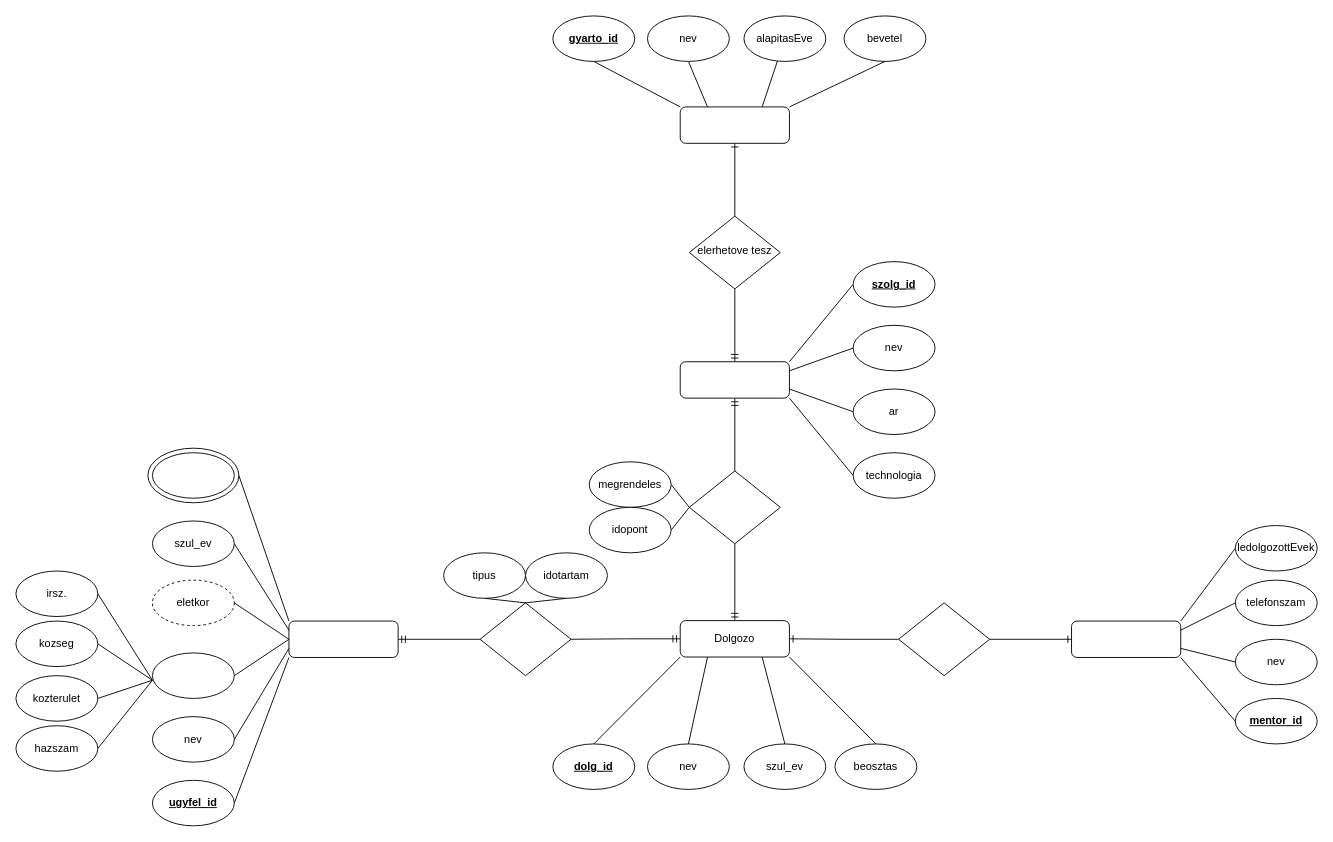
This 1333x842 diagram has some shape labels left out. The box of each missing label's shape, as (x1, y1, x2, y2) in pixels:
ertekesit: (688, 470, 780, 544)
Eszkozgyarto: (679, 106, 789, 143)
lakcim: (152, 652, 234, 698)
Mentor: (1071, 620, 1181, 657)
mentoral: (898, 602, 990, 676)
Szolgaltatas: (679, 361, 789, 398)
szolgaltatasok: (152, 452, 234, 498)
Ugyfel: (288, 620, 398, 657)
ugyintezes: (479, 602, 571, 676)
